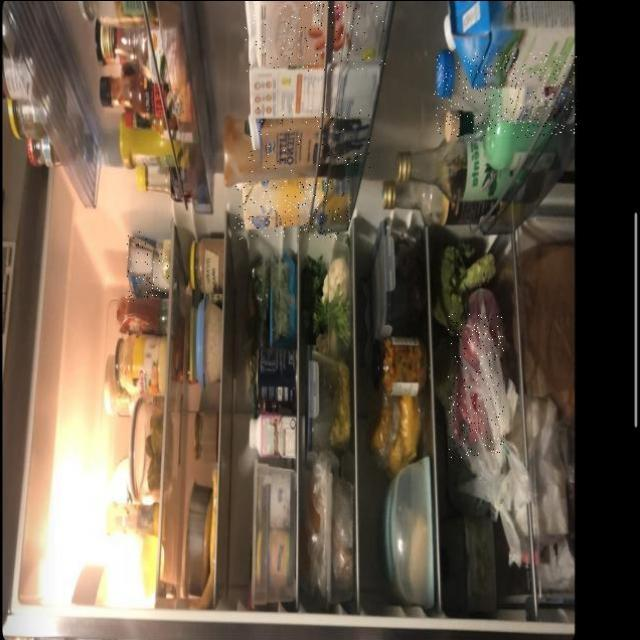Tomate: (449, 312, 505, 458)
Yogur: (126, 231, 153, 301), (153, 249, 170, 297)
milk: (434, 51, 577, 137), (243, 0, 386, 70), (248, 105, 373, 173), (235, 181, 351, 239)
